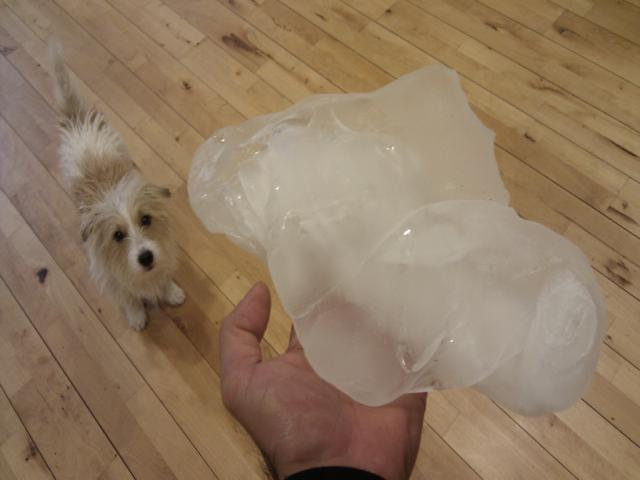Dog: (45, 39, 186, 336)
